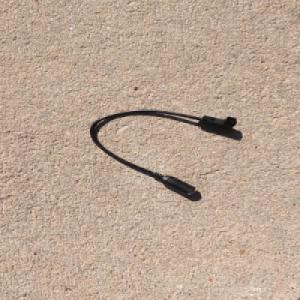Wire: (88, 108, 238, 196)
